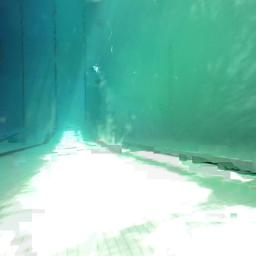Full: (89, 64, 100, 74)
